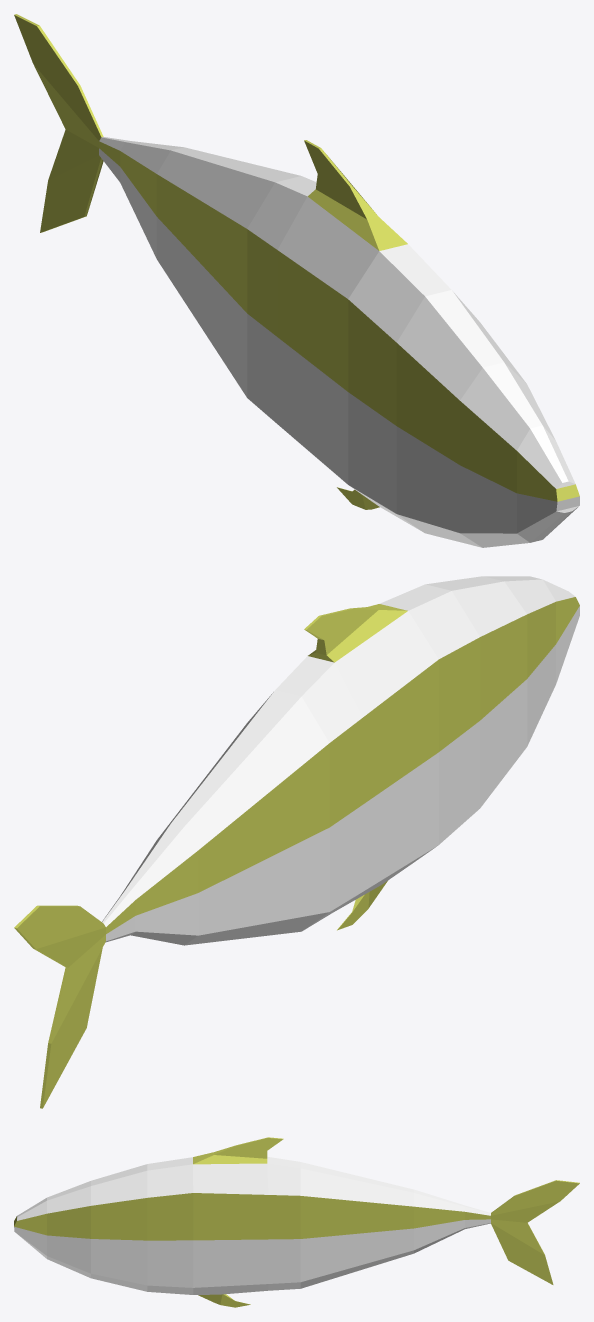
Rendered from fish_lp_1.fbx.
The picture shows the model from 3 angles, top to bottom: view 1: azimuth 30°, elevation 25°; view 2: azimuth 150°, elevation 25°; view 3: azimuth 270°, elevation 25°; orthographic projection. The views are drawn at different scales.
Visible parts, largest first — view 1: Fish; view 2: Fish; view 3: Fish.
Part boxes in pixels (x1,y1,x2,y2): Fish: [14, 14, 579, 547]; Fish: [14, 576, 579, 1108]; Fish: [14, 1137, 579, 1307].
Size of the model in its own units: 30.28 by 106 by 320.
